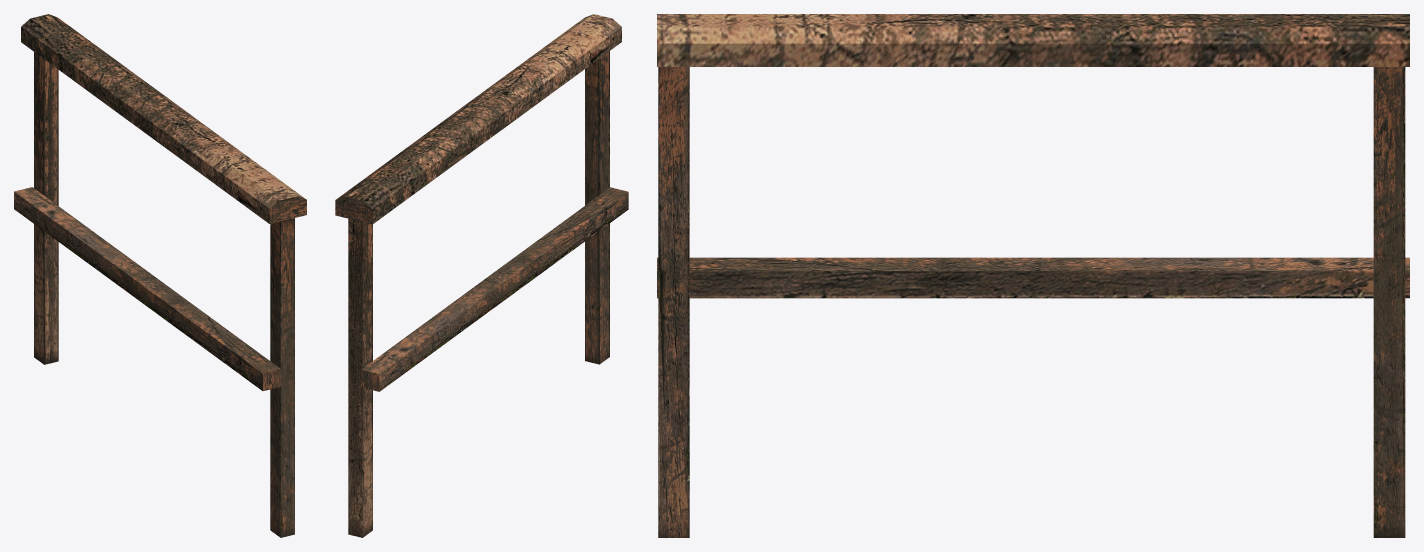
The model's file is factory_stairs_03.DAE.
The picture shows the model from 3 angles, left to right: view 1: azimuth 30°, elevation 25°; view 2: azimuth 150°, elevation 25°; view 3: azimuth 270°, elevation 25°; orthographic projection. The views are drawn at different scales.
Visible parts, largest first — view 1: Box078; view 2: Box078; view 3: Box078.
Part boxes in pixels (x1=…): Box078: x1=14, y1=14, x2=306, y2=537; Box078: x1=335, y1=14, x2=628, y2=537; Box078: x1=657, y1=14, x2=1409, y2=537.
Bounding box in the file's own units: 0.2045 × 1.5 × 2.
